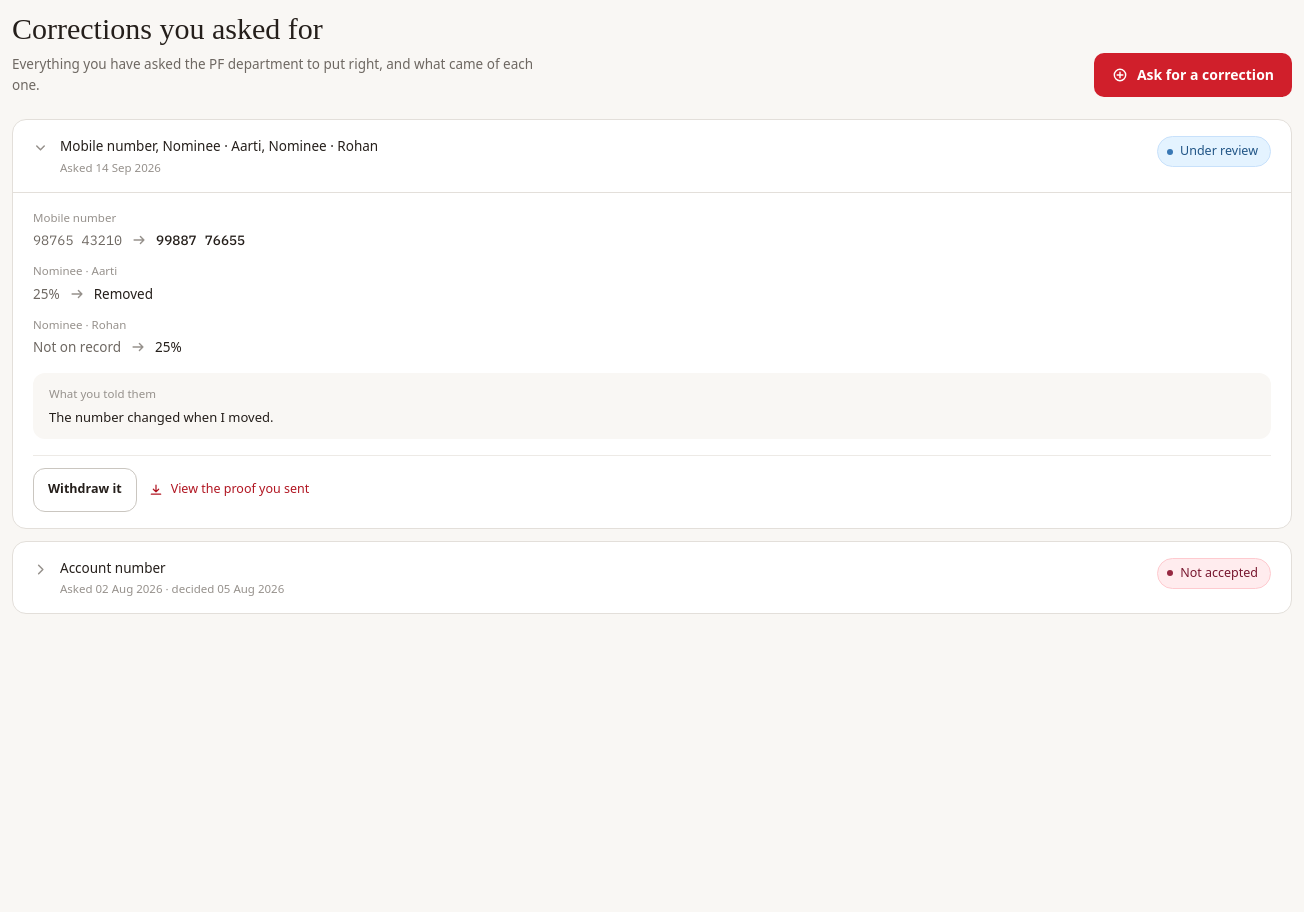
ChangeRequestHistoryView › opens a decided request and shows why it was refused
Click the button that starts with "Account number": (113, 568) x1=13 y1=542 x2=1291 y2=613
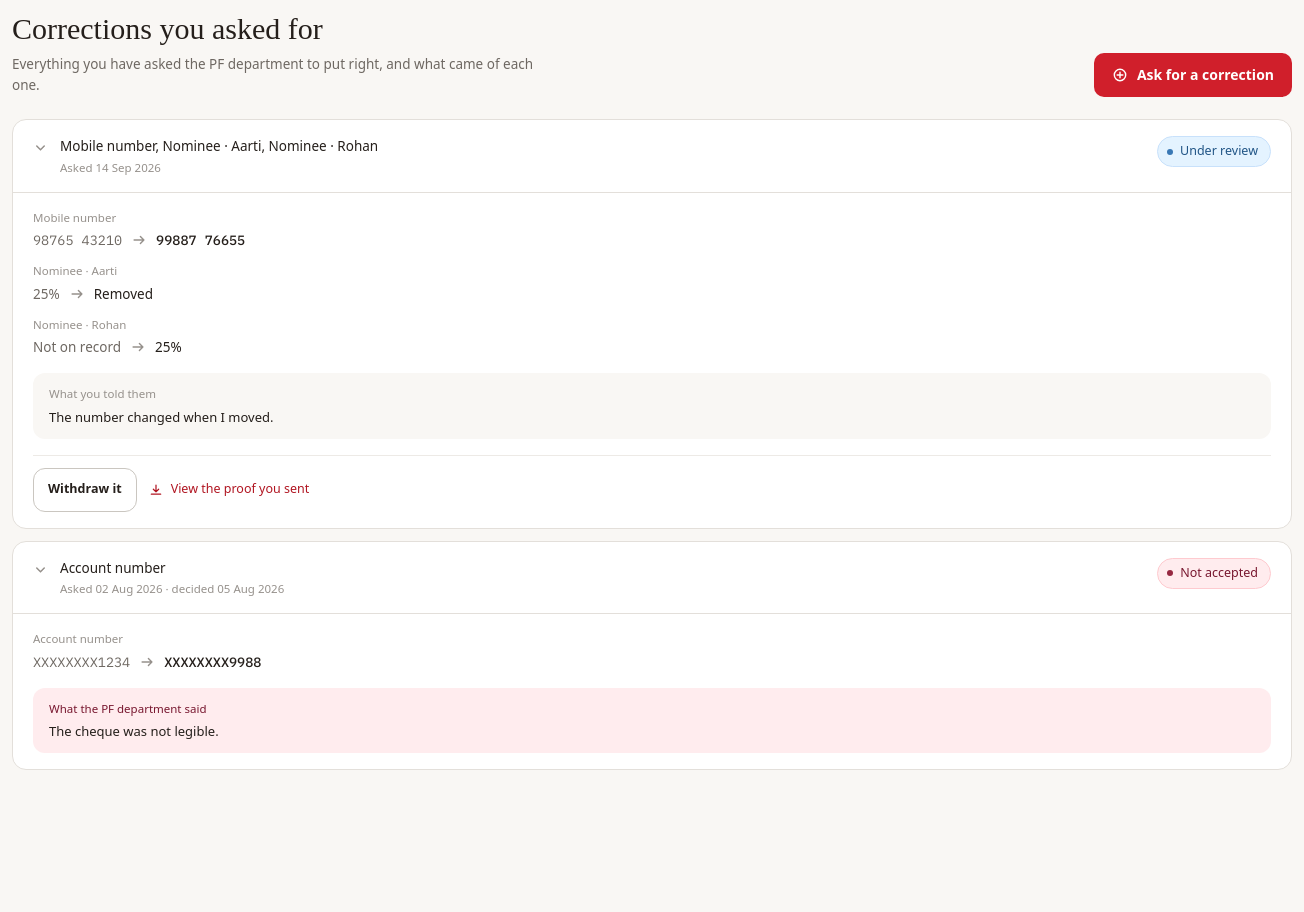
Check: the text "The cheque was not legible." is shown, box x1=49 y1=722 x2=219 y2=740
Check: the text "XXXXXXXX9988" is shown, box x1=164 y1=652 x2=261 y2=672
